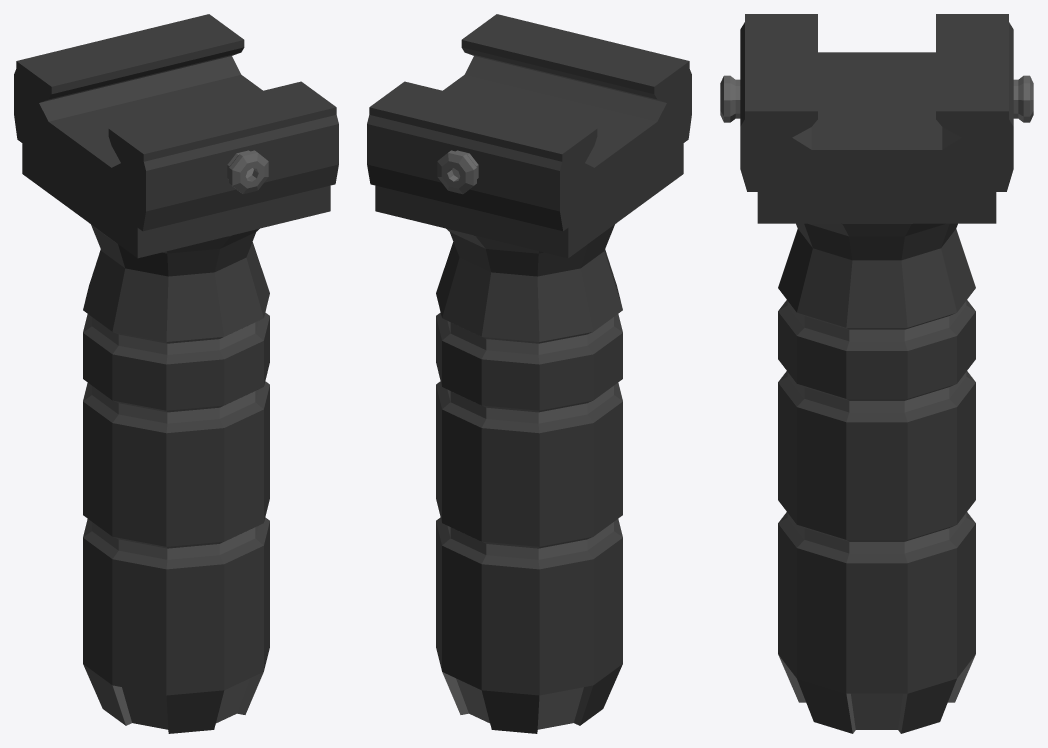
File: Attachment_Foregrip_V1.glb
3 renders of one model, left to right at view 1: azimuth 30°, elevation 25°; view 2: azimuth 150°, elevation 25°; view 3: azimuth 270°, elevation 25°, orthographic. The views are drawn at different scales.
Visible parts, largest first — view 1: Attachment_Foregrip_V1; view 2: Attachment_Foregrip_V1; view 3: Attachment_Foregrip_V1.
Boxes of the visible parts, x1,y1,x2,y2 form: Attachment_Foregrip_V1: (14,14,338,733); Attachment_Foregrip_V1: (367,14,691,733); Attachment_Foregrip_V1: (720,14,1033,733).
Size of the model in its own units: 0.0282 by 0.0865 by 0.0384.
Materials: 1 (1 with a texture image).
